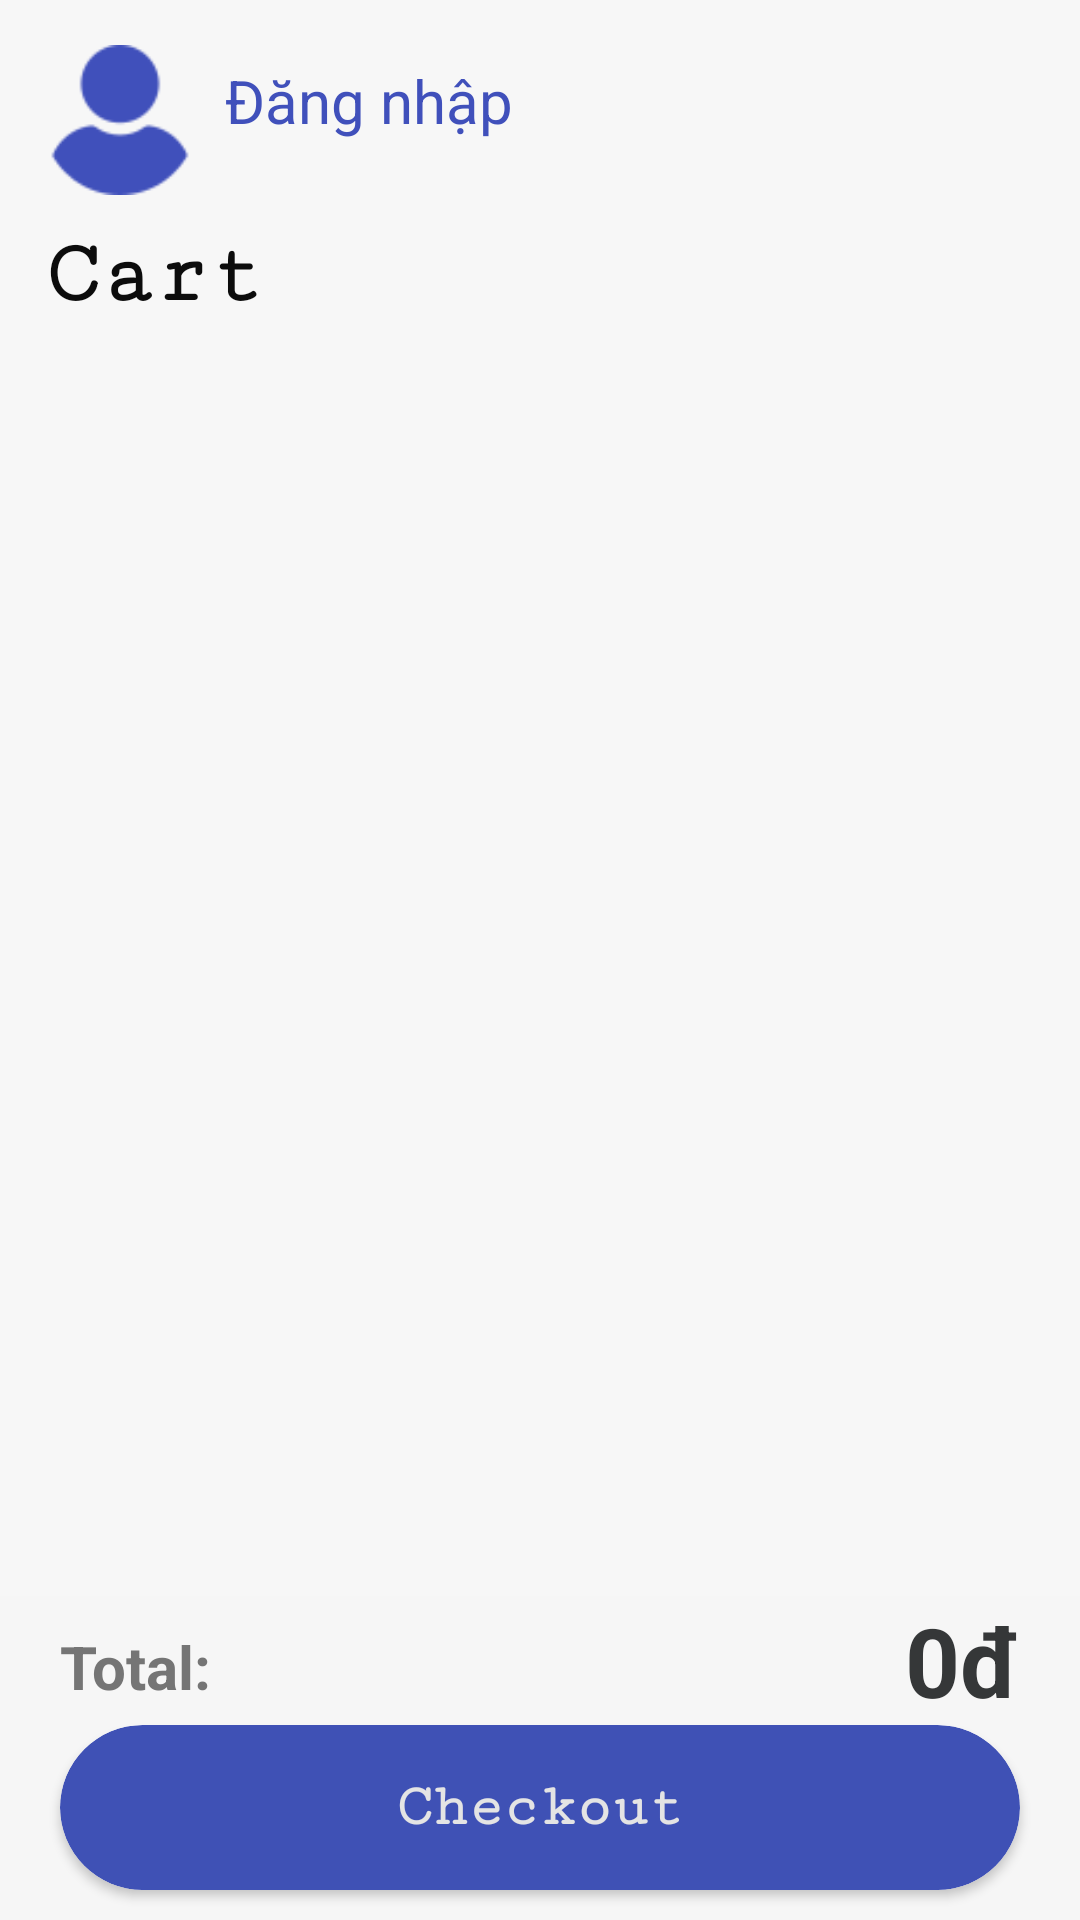

Named icons in this screenshot (1080 x 1920) and their centers, (x,y):
user: (119,120)
